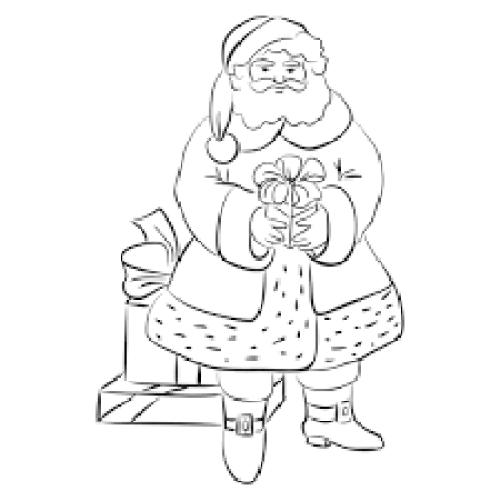Santa: (146, 11, 406, 485)
